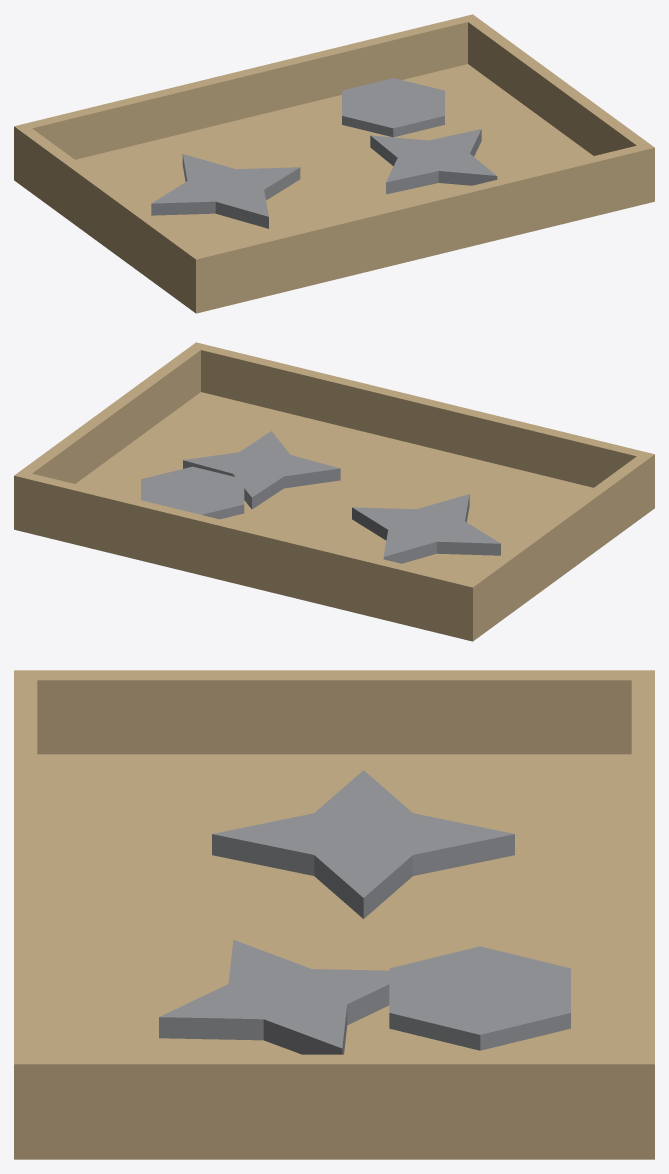
The model's file is prop-rowel-blank.fbx.
The picture shows the model from 3 angles, top to bottom: view 1: azimuth 30°, elevation 25°; view 2: azimuth 150°, elevation 25°; view 3: azimuth 270°, elevation 25°; orthographic projection. The views are drawn at different scales.
Parts seen in each view (by area): view 1: prop-rowel-blank; view 2: prop-rowel-blank; view 3: prop-rowel-blank.
Part boxes in pixels (box(x1,y1,x2,y2)): prop-rowel-blank: box(14, 14, 654, 313); prop-rowel-blank: box(14, 342, 654, 641); prop-rowel-blank: box(14, 670, 654, 1159).
Size of the model in its own units: 16 by 1.8 by 11.
